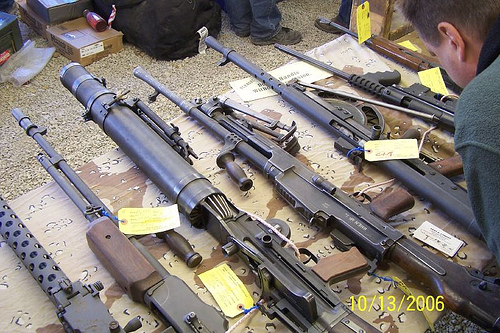rifle: (173, 23, 421, 148), (14, 91, 137, 326)
